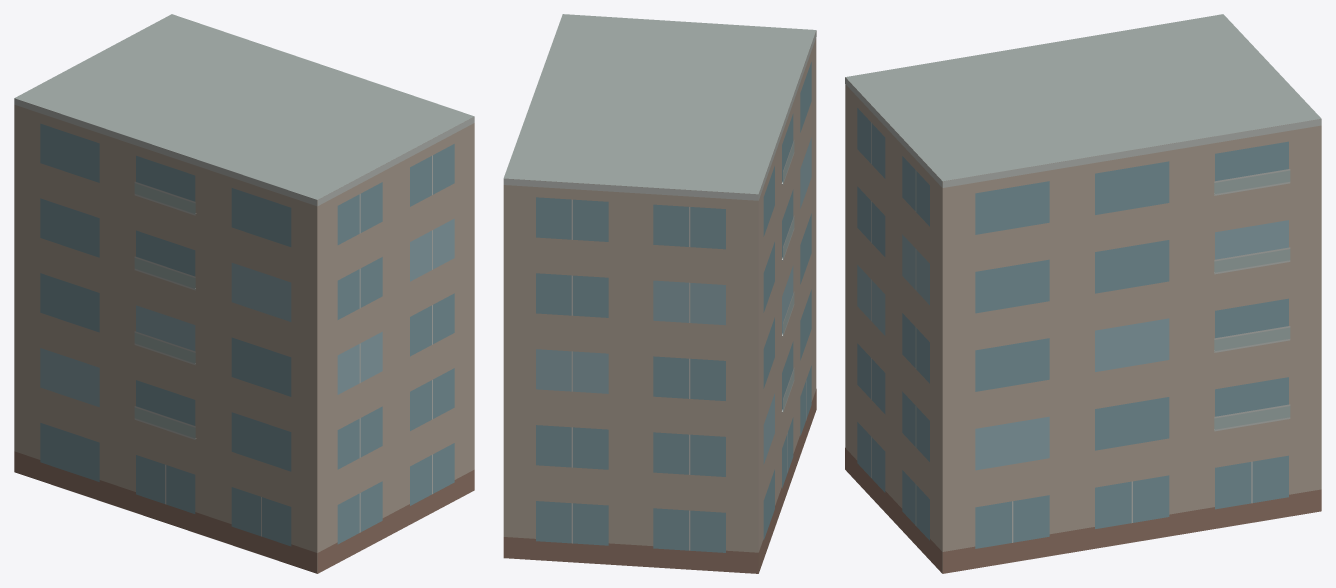
File: survey-upis-32737489.glb
The picture shows the model from 3 angles, left to right: view 1: azimuth 30°, elevation 25°; view 2: azimuth 150°, elevation 25°; view 3: azimuth 270°, elevation 25°; orthographic projection. The views are drawn at different scales.
Visible parts, largest first — view 1: survey-upis-32737489.tmp; view 2: survey-upis-32737489.tmp; view 3: survey-upis-32737489.tmp.
Part boxes in pixels (x1=…): survey-upis-32737489.tmp: x1=14, y1=14, x2=474, y2=573; survey-upis-32737489.tmp: x1=503, y1=14, x2=816, y2=573; survey-upis-32737489.tmp: x1=845, y1=14, x2=1321, y2=573.
Bounding box in the file's own units: 12.99 × 14.2 × 15.63.
